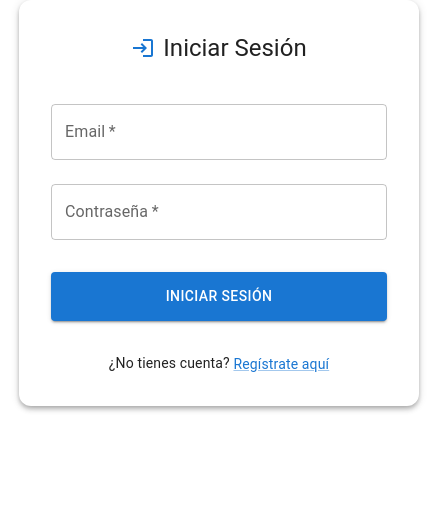
Test: Login Component › muestra error cuando login falla
Type "test@example.com" into the field labelled "Email *".
click(219, 132); type("test@example.com")  # box [51, 104, 387, 160]
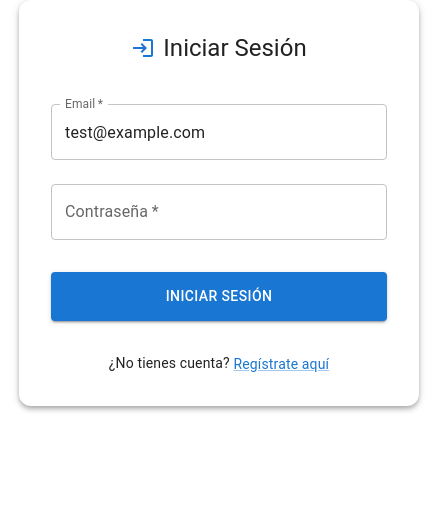
Type "wrong-password" into the password field labelled "Contraseña *".
click(219, 212); type("wrong-password")  # box [51, 184, 387, 240]
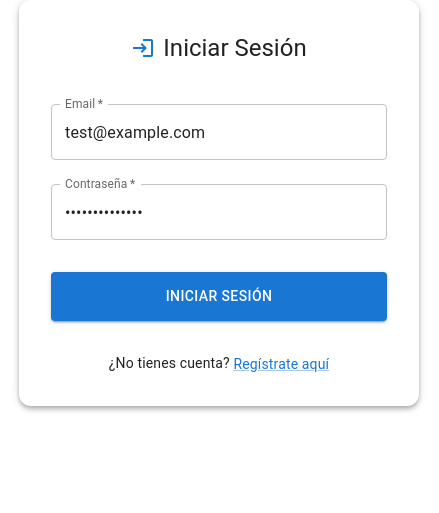
Click the button "Iniciar Sesión".
click(219, 296)  # box [51, 272, 387, 320]
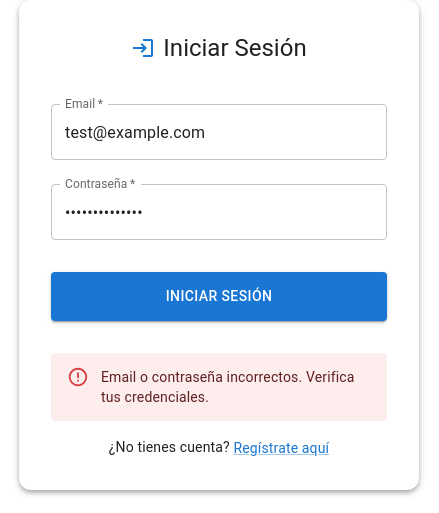
Expected: the text "Email o contraseña incorrectos. Verifica tus credenciales." is shown, [101, 358, 371, 414]
